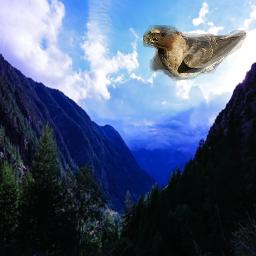Swallow: (143, 25, 247, 81)
